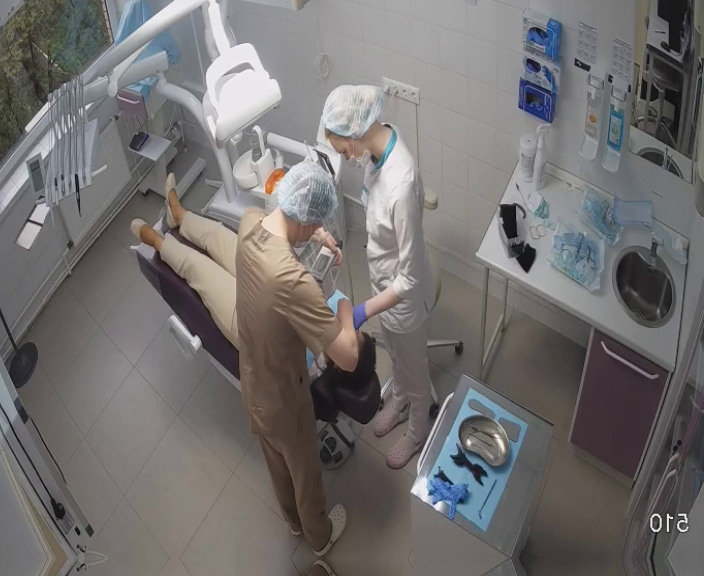Patient: (123, 169, 387, 427)
